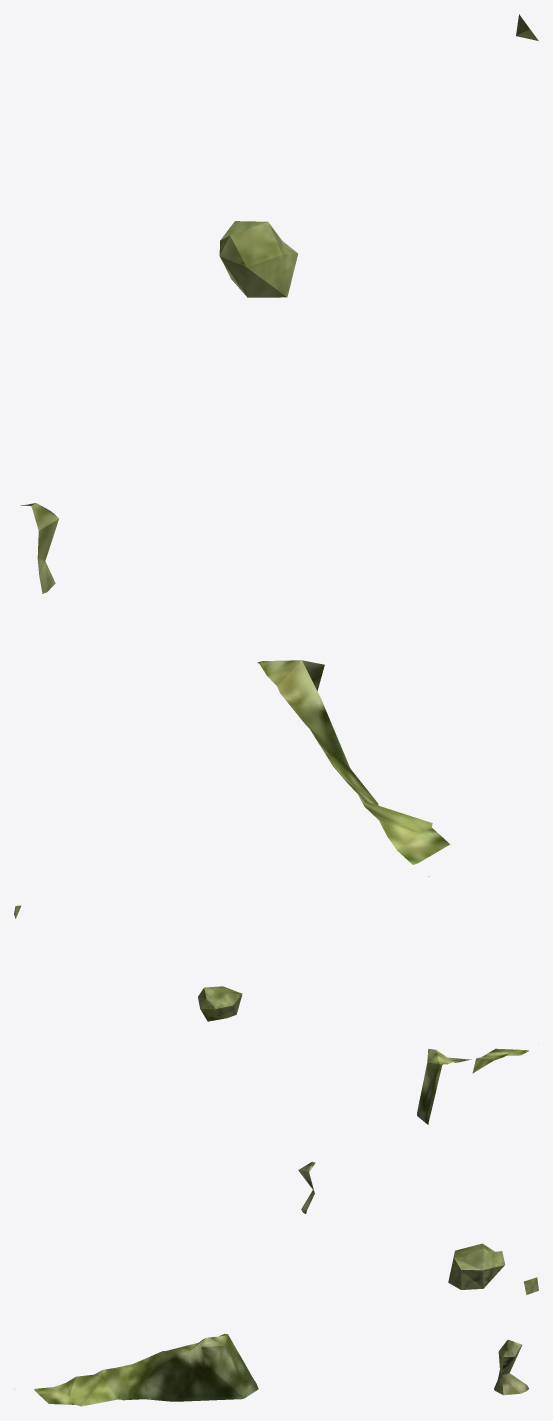
The picture shows the model from 3 angles, top to bottom: view 1: azimuth 30°, elevation 25°; view 2: azimuth 150°, elevation 25°; view 3: azimuth 270°, elevation 25°; orthographic projection. The views are drawn at different scales.
Bounding box in the file's own units: 1.37 × 1.07 × 1.92.
1 material, 1 textured.
